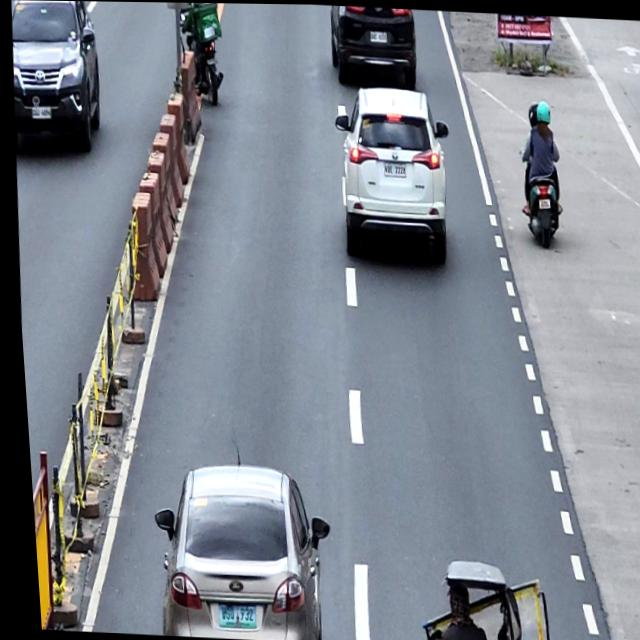Car: (140, 456, 330, 640), (324, 84, 455, 270), (5, 0, 107, 156), (326, 4, 419, 93)
License-Plate: (208, 600, 248, 631), (379, 160, 405, 178), (28, 104, 51, 122), (368, 28, 387, 43), (534, 196, 548, 208), (204, 56, 217, 64)
Motorcycle: (511, 138, 566, 248), (175, 2, 228, 109)
Tricycle: (410, 552, 575, 640)
